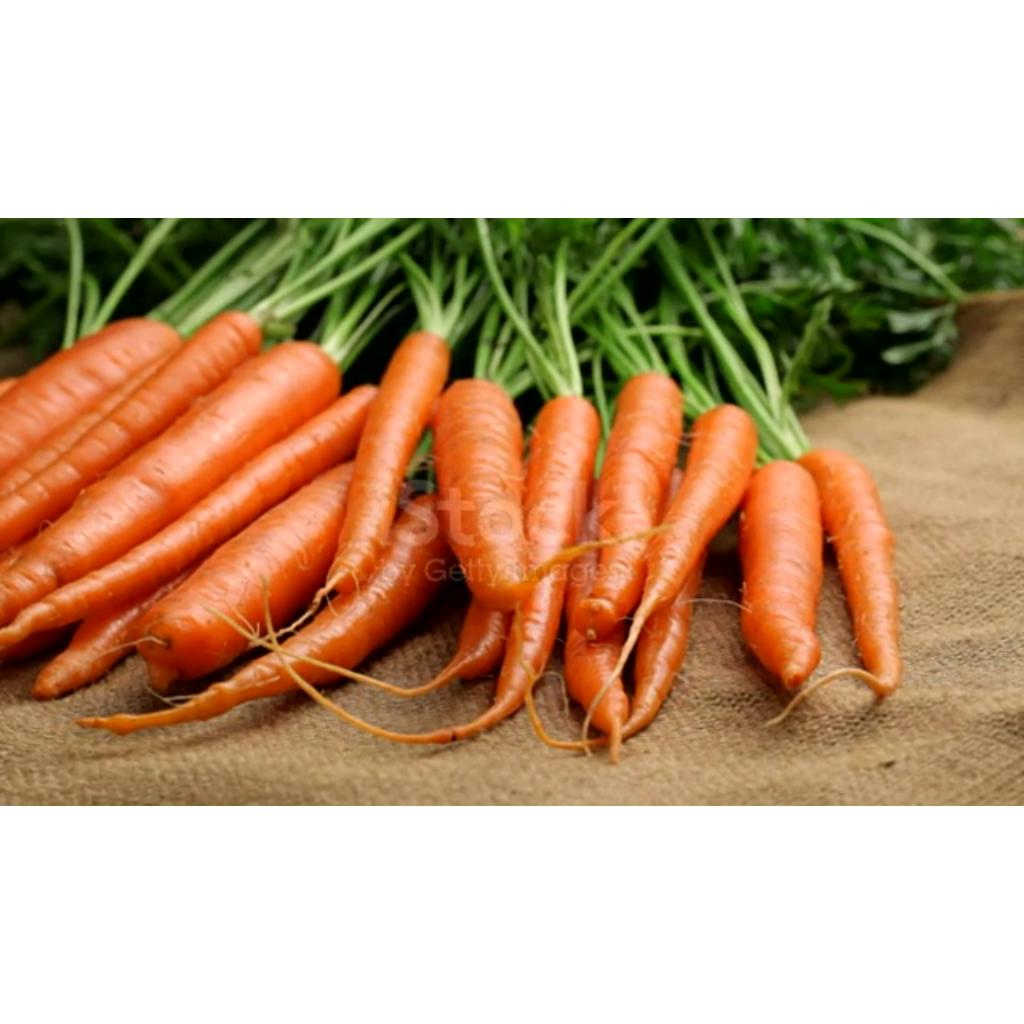carrot: (0, 386, 378, 649), (0, 342, 340, 625), (108, 499, 460, 728), (417, 396, 597, 744), (1, 312, 262, 551), (139, 458, 356, 688), (316, 332, 450, 599), (626, 406, 758, 649), (574, 372, 682, 640), (0, 318, 182, 473), (795, 451, 906, 694), (434, 380, 532, 611), (740, 462, 824, 691), (622, 558, 703, 739), (434, 600, 509, 683), (580, 506, 598, 539)
